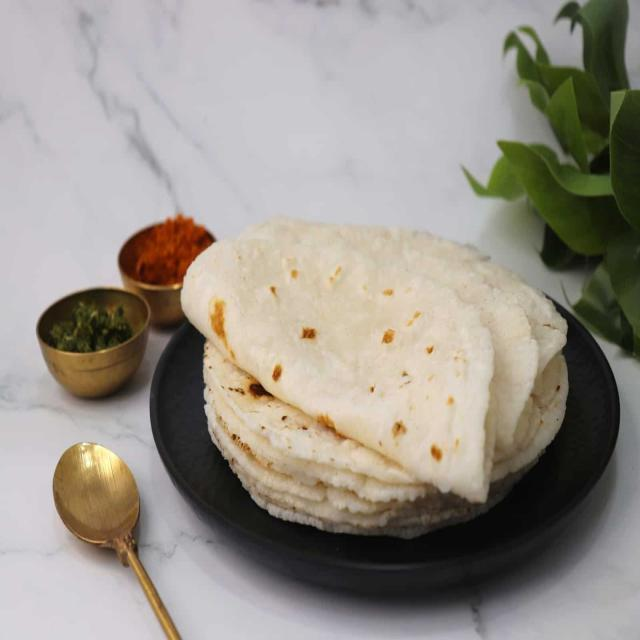RICE BHAKRI: (178, 243, 504, 504)
